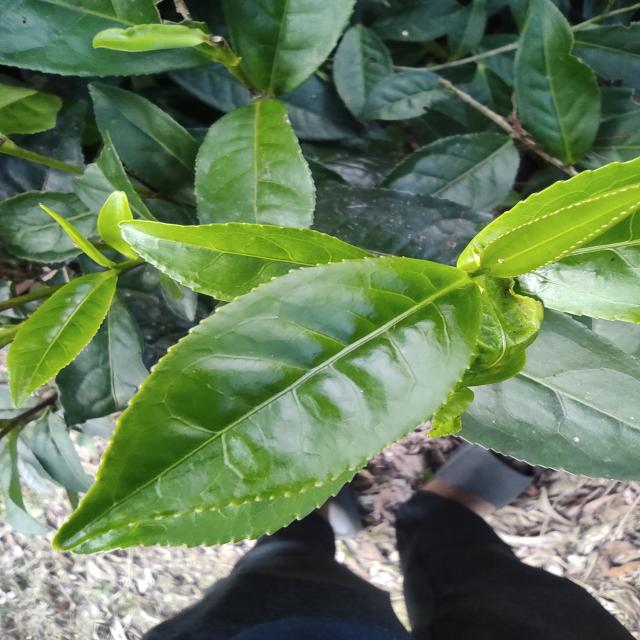Category B(2-4 days): (53, 248, 486, 556)
